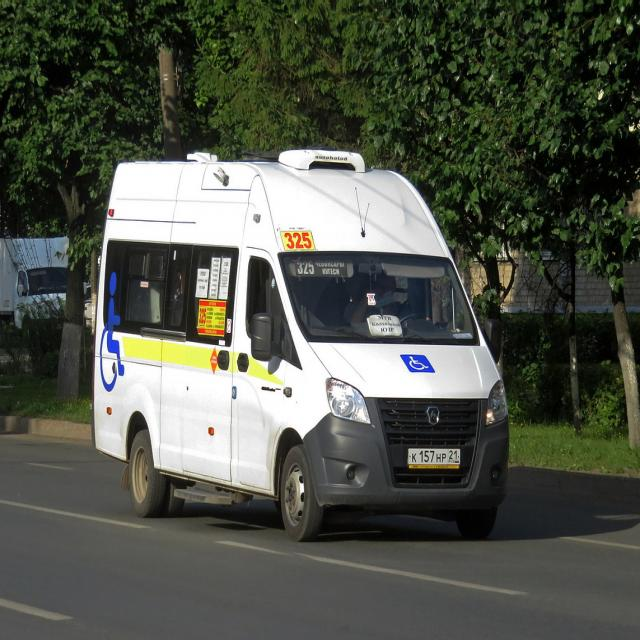number-of-bus: (284, 232, 317, 251), (297, 259, 317, 276)
